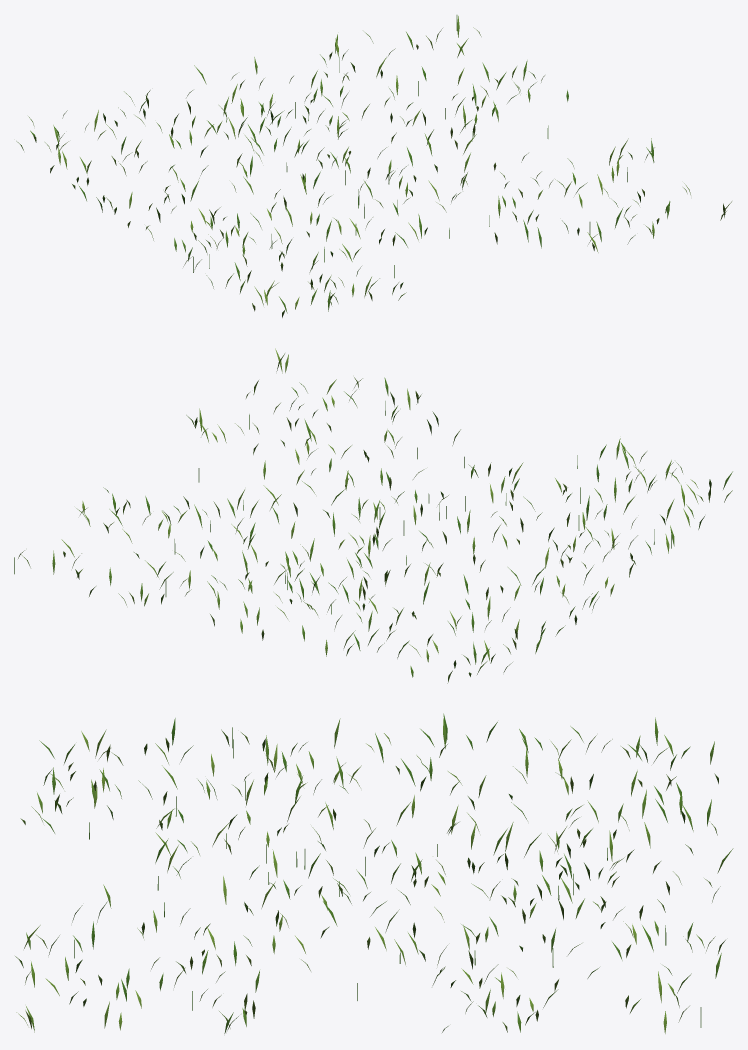
The model's file is grass-0.glb.
3 renders of one model, top to bottom at view 1: azimuth 30°, elevation 25°; view 2: azimuth 150°, elevation 25°; view 3: azimuth 270°, elevation 25°, orthographic. The views are drawn at different scales.
Parts seen in each view (by area): view 1: grass-0; view 2: grass-0; view 3: grass-0.
Boxes of the visible parts, x1=… form: grass-0: x1=16, y1=15, x2=731, y2=317; grass-0: x1=14, y1=348, x2=732, y2=683; grass-0: x1=15, y1=713, x2=733, y2=1033.
Size of the model in its own units: 10.13 by 0.4471 by 10.3.
